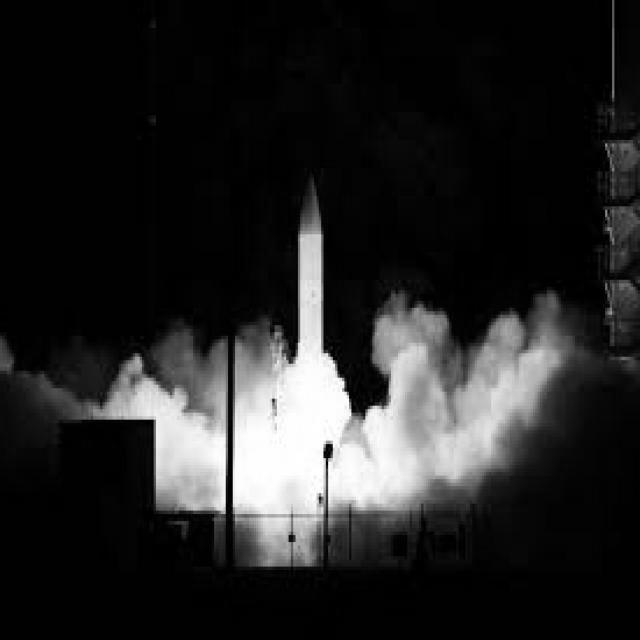Missile: (294, 179, 328, 368)
